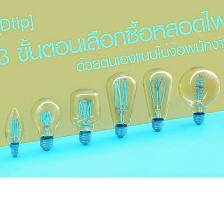light_bulb: (177, 63, 223, 129), (102, 70, 141, 141), (64, 88, 106, 148), (139, 64, 175, 133), (29, 96, 64, 150), (1, 105, 26, 160)
